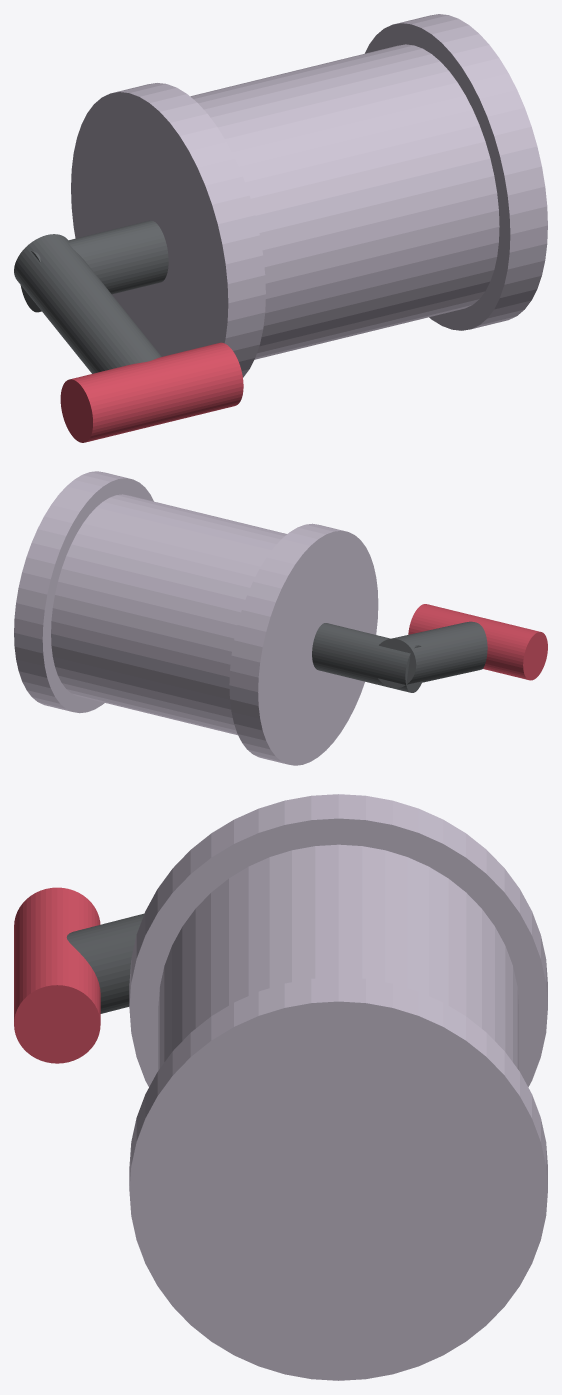
File: fishing reel 2.glb
3 views of the same model, one above another, from view 1: azimuth 30°, elevation 25°; view 2: azimuth 150°, elevation 25°; view 3: azimuth 270°, elevation 25° (orthographic). The views are drawn at different scales.
Parts seen in each view (by area): view 1: Mesh_Mesh_head_geo.001_lambert2SG.001; view 2: Mesh_Mesh_head_geo.001_lambert2SG.001; view 3: Mesh_Mesh_head_geo.001_lambert2SG.001.
Part boxes in pixels (x1=…): Mesh_Mesh_head_geo.001_lambert2SG.001: x1=14, y1=14, x2=547, y2=442; Mesh_Mesh_head_geo.001_lambert2SG.001: x1=14, y1=471, x2=547, y2=765; Mesh_Mesh_head_geo.001_lambert2SG.001: x1=14, y1=794, x2=547, y2=1380.
Bounding box in the file's own units: 0.053 × 0.029 × 0.037.
